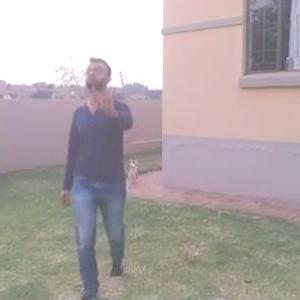takeoff-hand: (96, 84, 120, 116)
